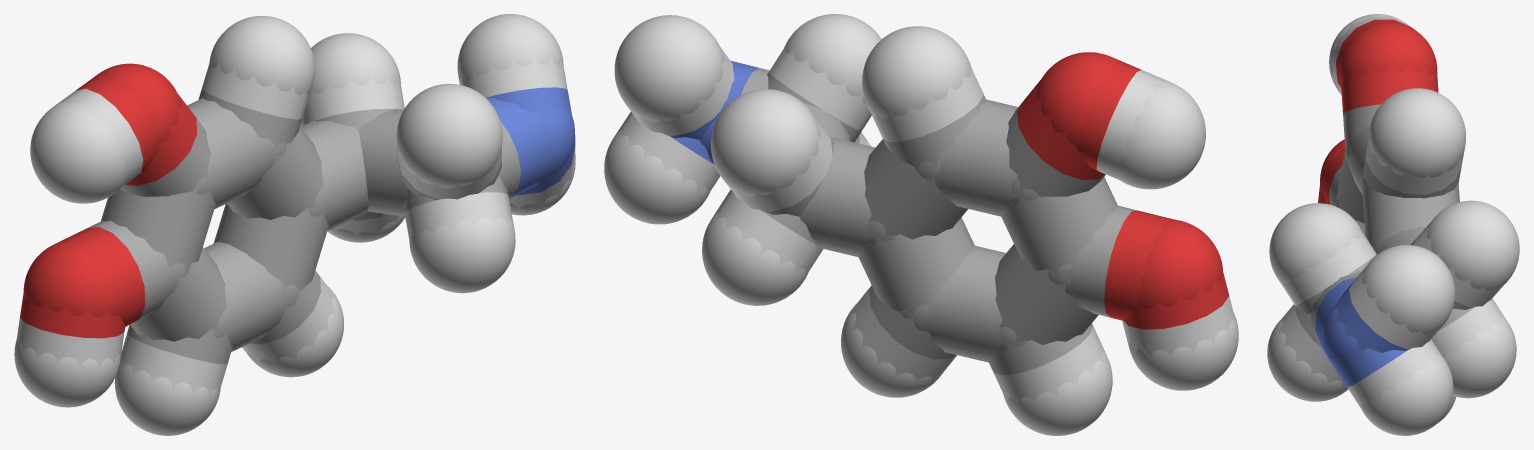
File: 681-sticks-color-print_NIH3D.glb
3 views of the same model, side by side, from view 1: azimuth 30°, elevation 25°; view 2: azimuth 150°, elevation 25°; view 3: azimuth 270°, elevation 25° (orthographic). The views are drawn at different scales.
Parts seen in each view (by area): view 1: bonds, atoms; view 2: bonds, atoms; view 3: atoms, bonds.
Part boxes in pixels (x1=…): bonds: x1=15, y1=55, x2=575, y2=398; atoms: x1=14, y1=14, x2=575, y2=435; bonds: x1=614, y1=41, x2=1236, y2=407; atoms: x1=604, y1=14, x2=1238, y2=435; atoms: x1=1267, y1=14, x2=1519, y2=435; bonds: x1=1276, y1=15, x2=1508, y2=412.
Bounding box in the file's own units: 9.9 × 6.11 × 4.15.
